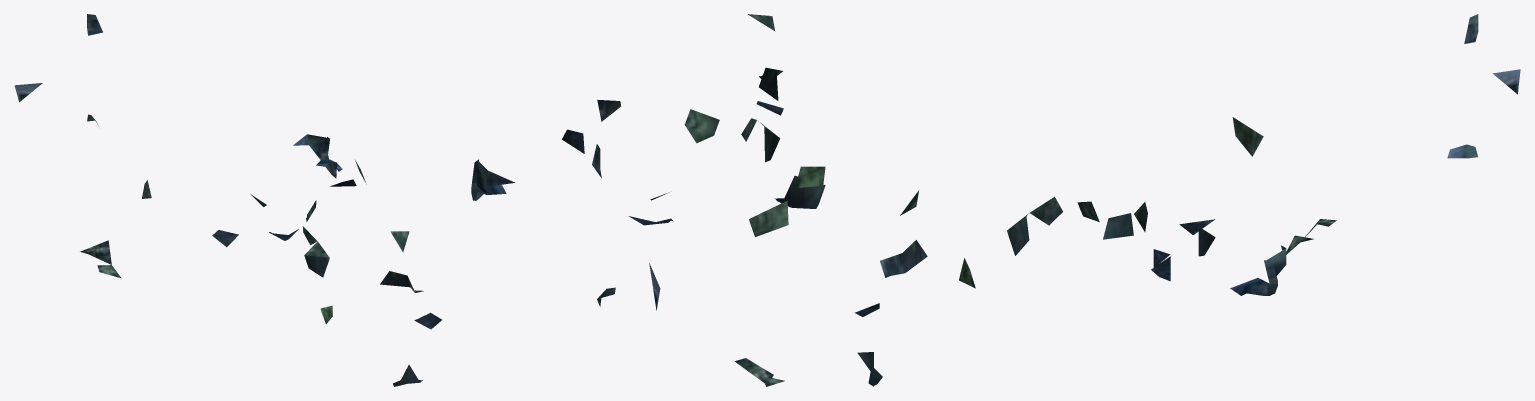
3 renders of one model, left to right at view 1: azimuth 30°, elevation 25°; view 2: azimuth 150°, elevation 25°; view 3: azimuth 270°, elevation 25°, orthographic. The views are drawn at different scales.
Visible parts, largest first — view 1: 30436272704370617415_1; view 2: 30436272704370617415_1; view 3: 30436272704370617415_1.
Part boxes in pixels (bbox=[...]): 30436272704370617415_1: bbox=[14, 14, 441, 386]; 30436272704370617415_1: bbox=[471, 14, 825, 386]; 30436272704370617415_1: bbox=[854, 14, 1520, 386].
Size of the model in its own units: 18.72 by 18.18 by 36.4.
Materials: 1 (1 with a texture image).
